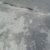others: (5, 1, 42, 42)
